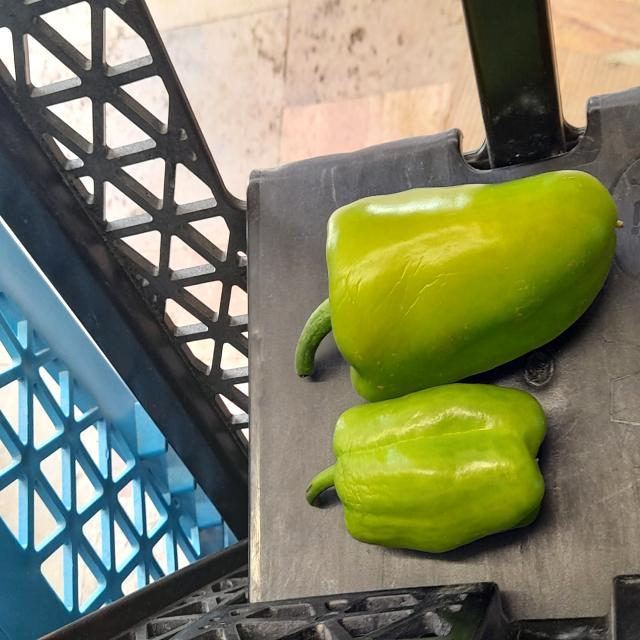bell pepper: (288, 154, 628, 387), (305, 385, 568, 562)
